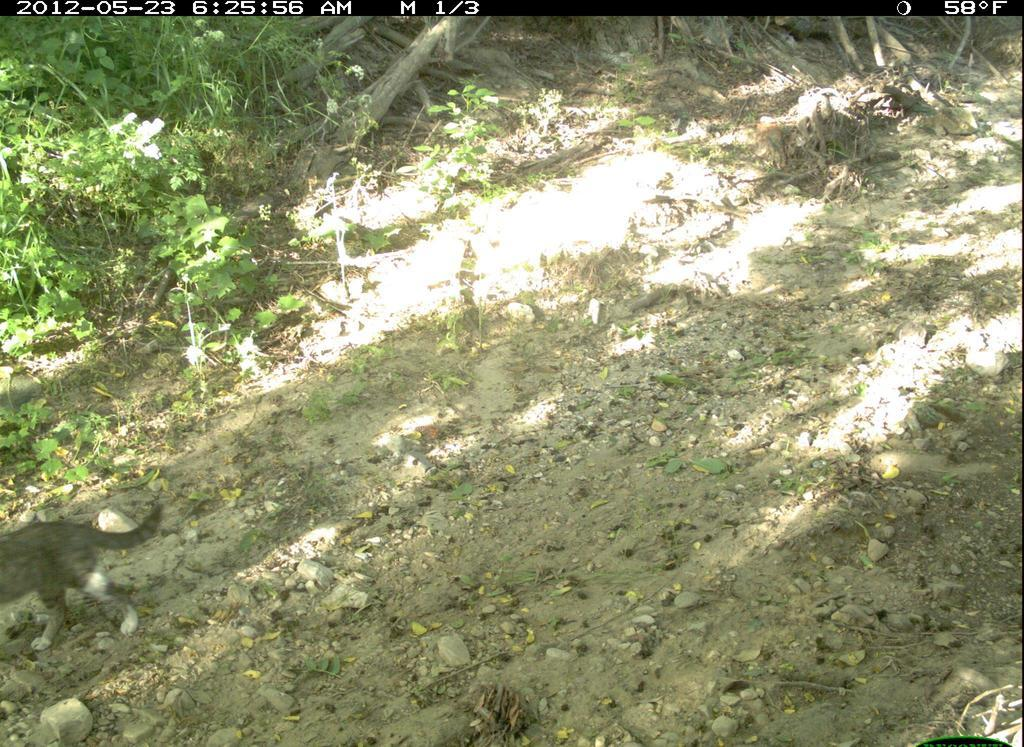cat: (1, 497, 171, 655)
